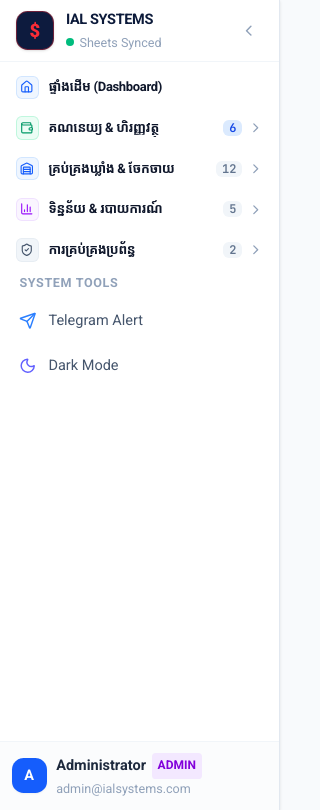
Test: Sidebar Component & Protected Routes Navigation Unit Tests › should show User Management (PERMISSIONS) for ADMIN user
Note: Expand System accordion group
Click the button titled "System & Admin": (92, 250) [8,232,271,267]
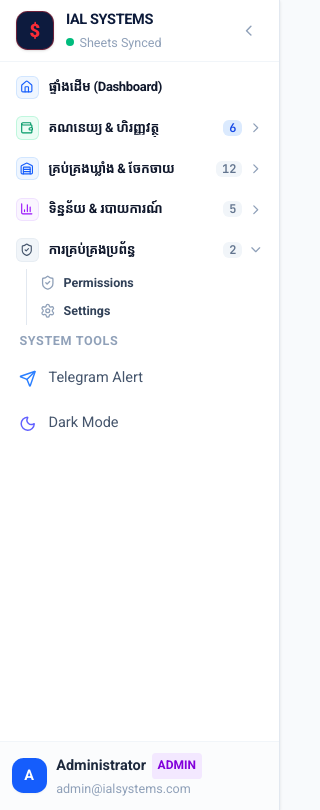
Check: the text "Permissions" is shown, box [64,275,134,290]
